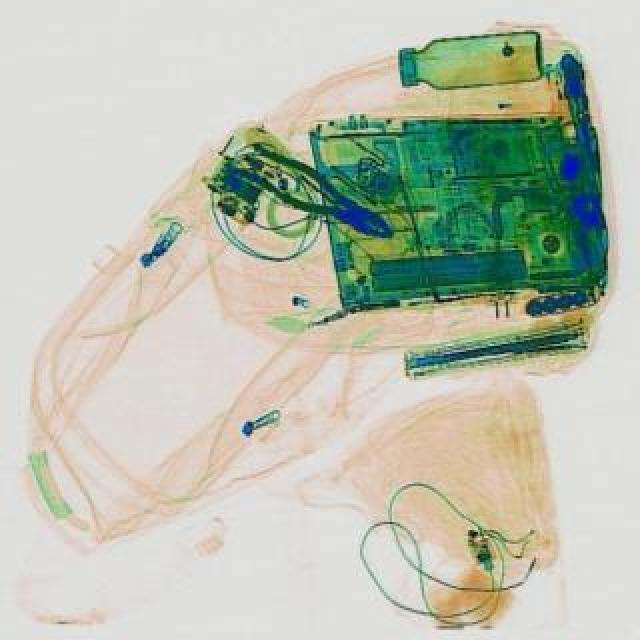wrench: (226, 130, 404, 254)
